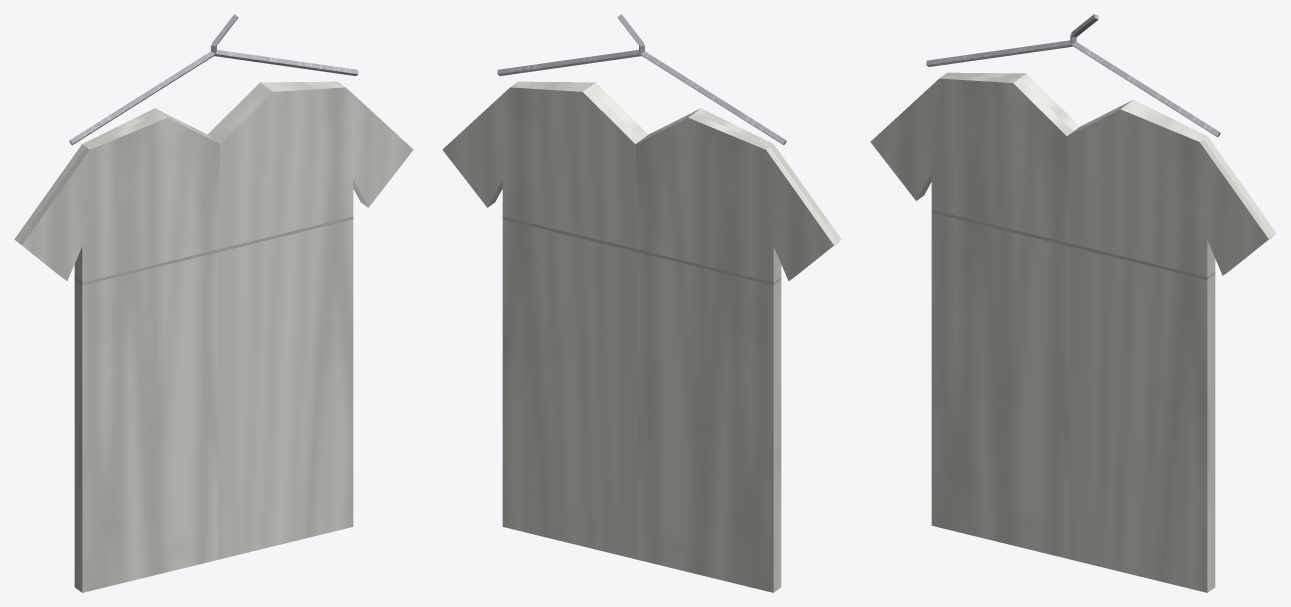
Rendered from laundry_tee.glb.
The picture shows the model from 3 angles, left to right: view 1: azimuth 30°, elevation 25°; view 2: azimuth 150°, elevation 25°; view 3: azimuth 330°, elevation 25°; orthographic projection.
Parts seen in each view (by area): view 1: p; view 2: p; view 3: p.
Boxes of the visible parts, x1,y1,x2,y2 form: p: (14,14,413,592); p: (442,14,841,592); p: (870,14,1276,592).
Bounding box in the file's own units: 0.52 × 0.6828 × 0.03.
2 materials, 2 textured.
